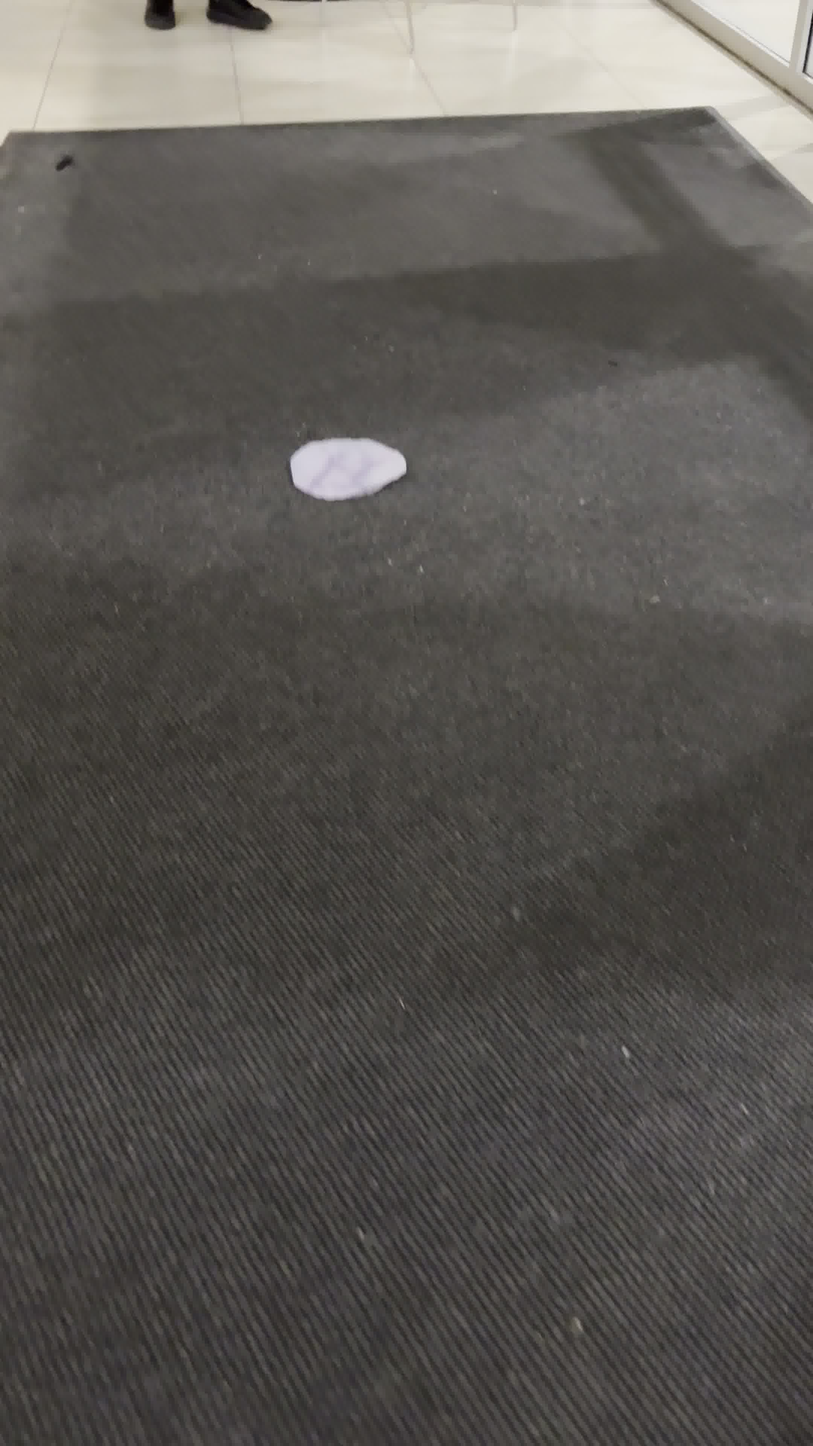Target: (282, 434, 420, 503)
